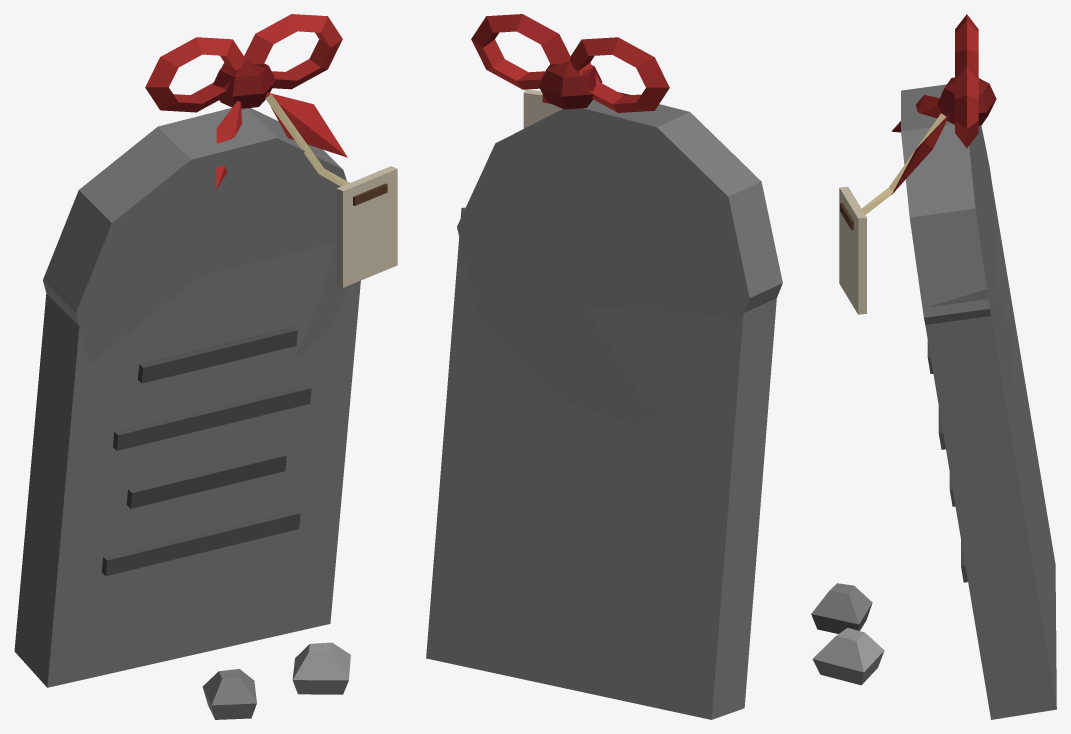
Rendered from quest_stone_tablet.glb.
3 renders of one model, left to right at view 1: azimuth 30°, elevation 25°; view 2: azimuth 150°, elevation 25°; view 3: azimuth 270°, elevation 25°, orthographic.
Visible parts, largest first — view 1: quest_stone_tablet; view 2: quest_stone_tablet; view 3: quest_stone_tablet.
Boxes of the visible parts, bbox=[...] form: quest_stone_tablet: bbox=[14, 14, 397, 719]; quest_stone_tablet: bbox=[426, 14, 782, 719]; quest_stone_tablet: bbox=[811, 14, 1056, 719].
Size of the model in its own units: 0.2209 by 0.4573 by 0.1621.
